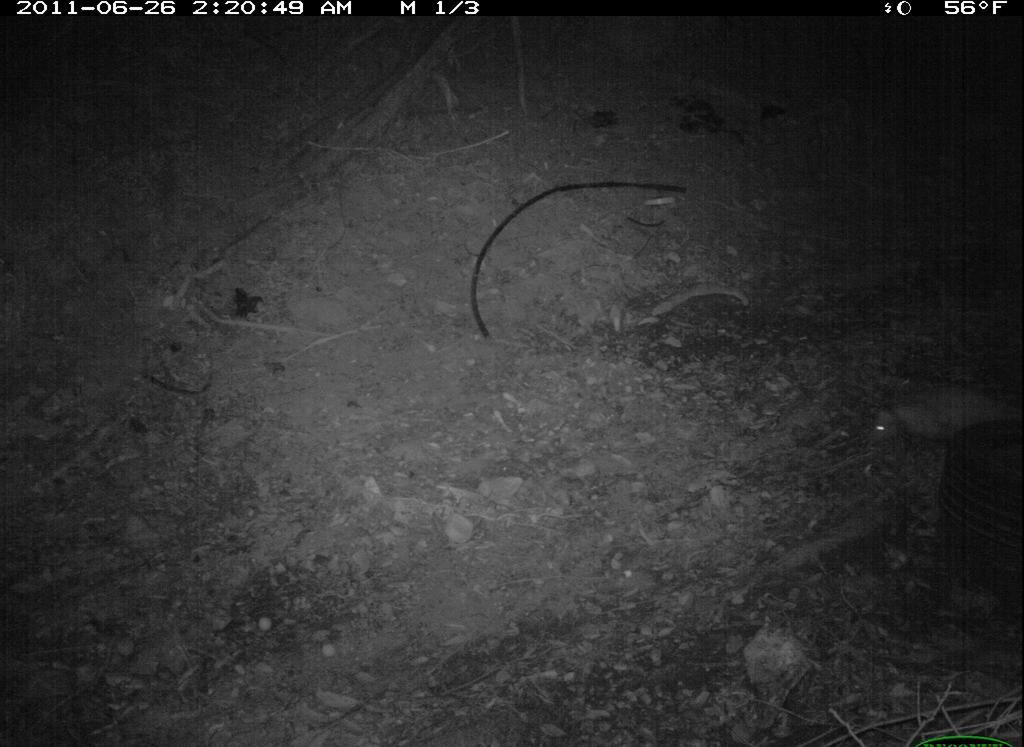opossum: (857, 378, 1023, 463)
